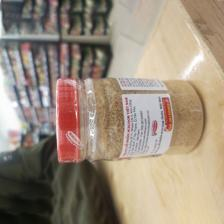Hao_hao: (55, 77, 206, 165)
